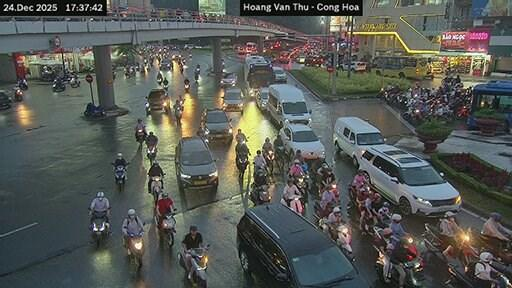motorbike: (176, 244, 208, 287), (319, 217, 352, 256), (473, 233, 511, 264), (403, 234, 422, 286), (453, 229, 477, 265), (422, 223, 448, 256), (444, 261, 476, 286), (154, 211, 175, 246), (124, 232, 144, 266), (90, 211, 108, 244), (403, 259, 422, 286), (348, 183, 368, 207), (281, 193, 301, 214), (294, 172, 307, 203), (313, 199, 332, 220), (249, 184, 268, 205), (114, 162, 127, 190), (402, 234, 419, 255), (150, 175, 162, 203), (374, 246, 384, 279), (374, 247, 384, 280), (83, 103, 105, 117), (489, 274, 511, 287), (236, 153, 248, 176), (263, 149, 274, 174), (275, 145, 284, 171), (173, 106, 182, 125), (454, 104, 467, 117), (147, 144, 156, 162), (373, 225, 383, 241), (12, 85, 22, 100), (374, 226, 383, 241), (135, 129, 144, 144), (51, 80, 64, 90), (390, 268, 397, 286), (390, 234, 400, 246), (16, 77, 26, 89), (70, 76, 80, 86), (390, 268, 397, 277), (390, 277, 397, 286), (124, 68, 130, 77), (128, 67, 134, 76), (156, 76, 162, 85), (406, 255, 416, 260), (184, 82, 188, 91), (195, 72, 198, 81), (163, 82, 166, 90), (419, 259, 422, 266), (393, 243, 397, 246), (111, 162, 112, 163)
